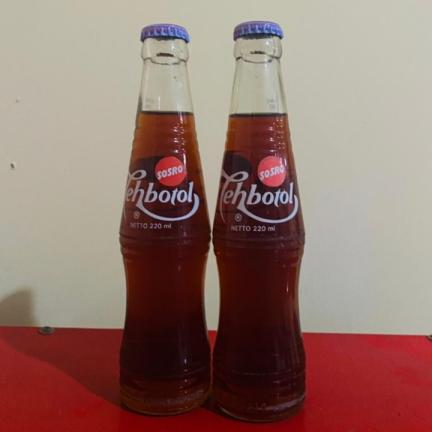container: (212, 22, 305, 422), (119, 25, 211, 402)
fluid: (118, 110, 210, 412), (213, 115, 304, 413)
fluid-surface: (229, 111, 286, 117), (137, 109, 193, 115)
